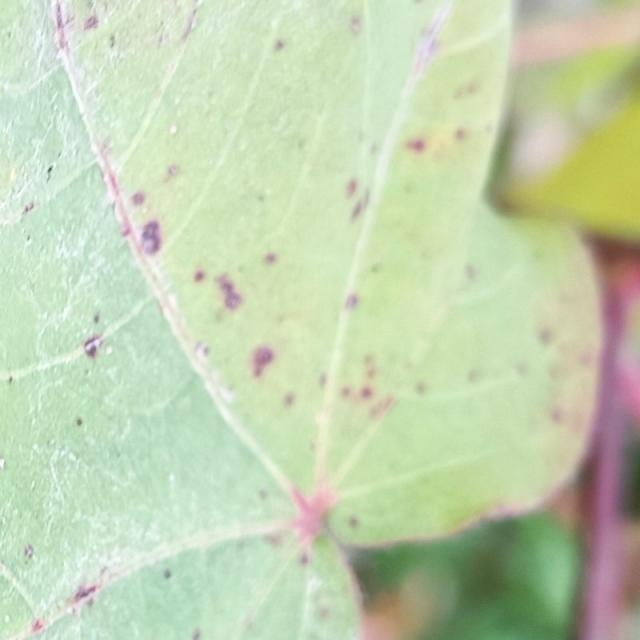Bacterial_Blight: (68, 0, 206, 68), (532, 305, 589, 425), (125, 184, 181, 272), (405, 119, 478, 167), (339, 352, 390, 413), (339, 171, 380, 239), (64, 567, 115, 615), (209, 268, 251, 320), (78, 310, 116, 362), (52, 3, 74, 54), (251, 346, 276, 378), (419, 35, 442, 66), (451, 79, 481, 101), (118, 213, 133, 239), (407, 137, 427, 153), (363, 353, 377, 374), (264, 532, 283, 547), (194, 341, 210, 358), (164, 164, 180, 180), (344, 293, 359, 310), (84, 14, 99, 31), (350, 14, 362, 35), (465, 263, 478, 282), (516, 361, 531, 377), (346, 178, 358, 197), (31, 618, 45, 634), (131, 191, 145, 206), (538, 328, 552, 343), (467, 368, 481, 383), (283, 392, 296, 408), (263, 252, 278, 265), (22, 201, 35, 215), (23, 544, 34, 560), (455, 127, 468, 140), (274, 38, 286, 52), (415, 381, 427, 395), (298, 552, 310, 566), (348, 516, 360, 529), (45, 164, 54, 181), (318, 607, 330, 619), (318, 373, 327, 388), (191, 627, 202, 639), (258, 489, 269, 500), (108, 34, 116, 48), (340, 387, 350, 398), (256, 193, 266, 204), (163, 568, 172, 580), (169, 124, 178, 135), (92, 312, 100, 324), (75, 417, 83, 427), (0, 458, 6, 471), (191, 633, 202, 640), (6, 375, 13, 384)
Cotton: (0, 0, 602, 639)
